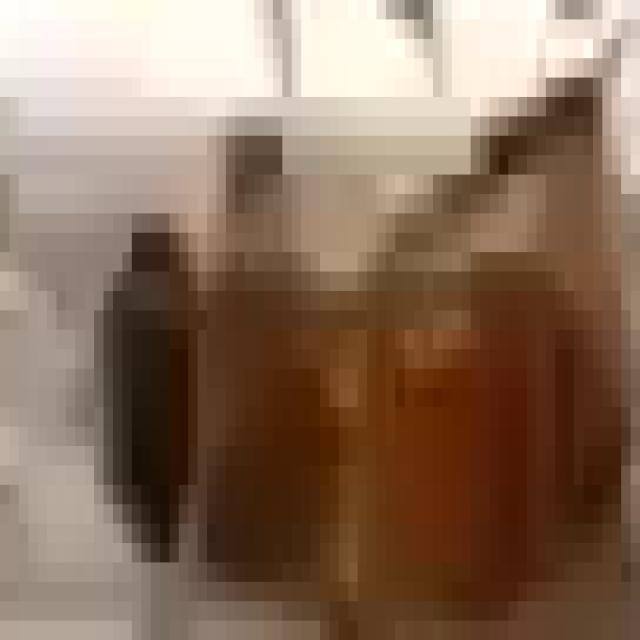honeybee: (93, 163, 617, 591)
